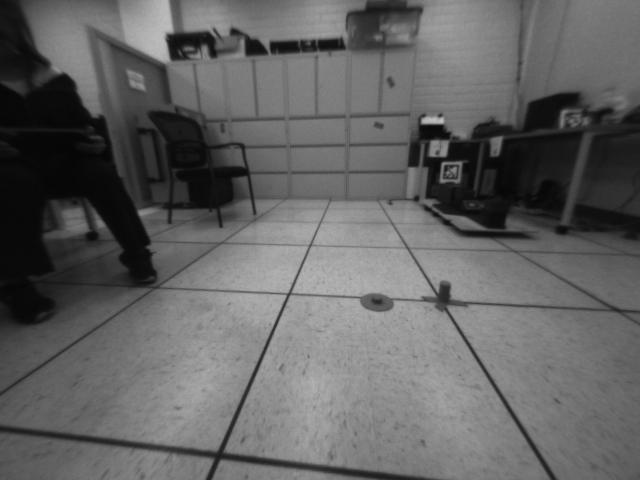X: (420, 279, 471, 314)
